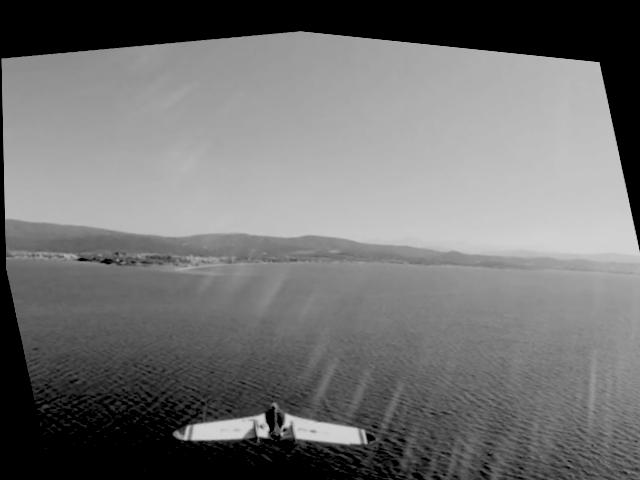hedef: (156, 352, 392, 480)
